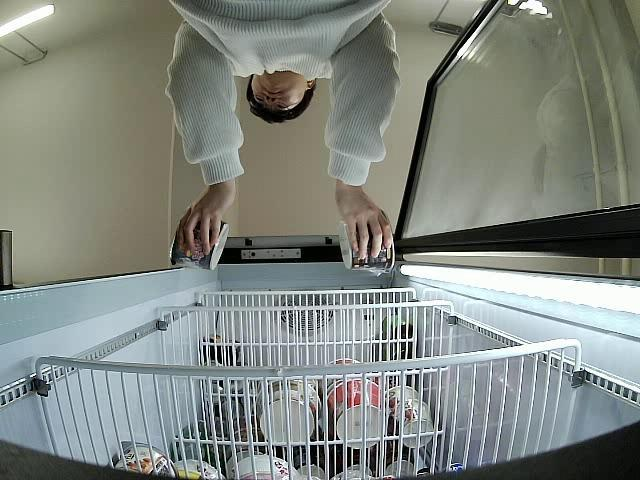07_buldak_L: (170, 209, 230, 272), (342, 210, 396, 274)
